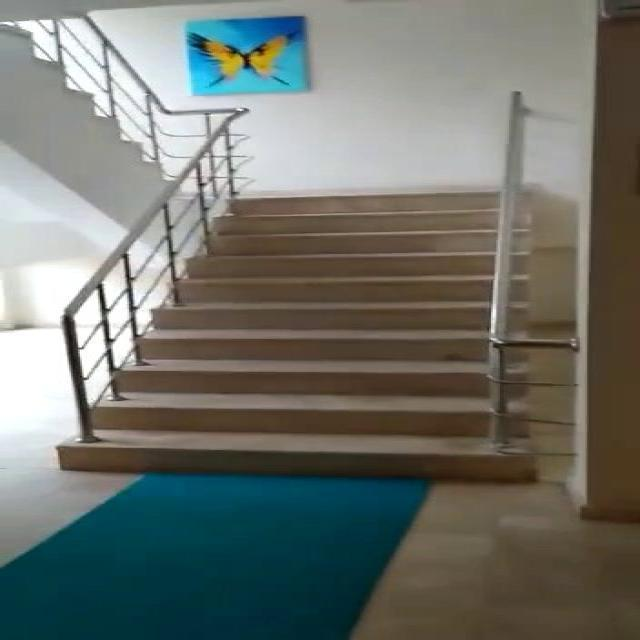stairs: (58, 187, 542, 481)
